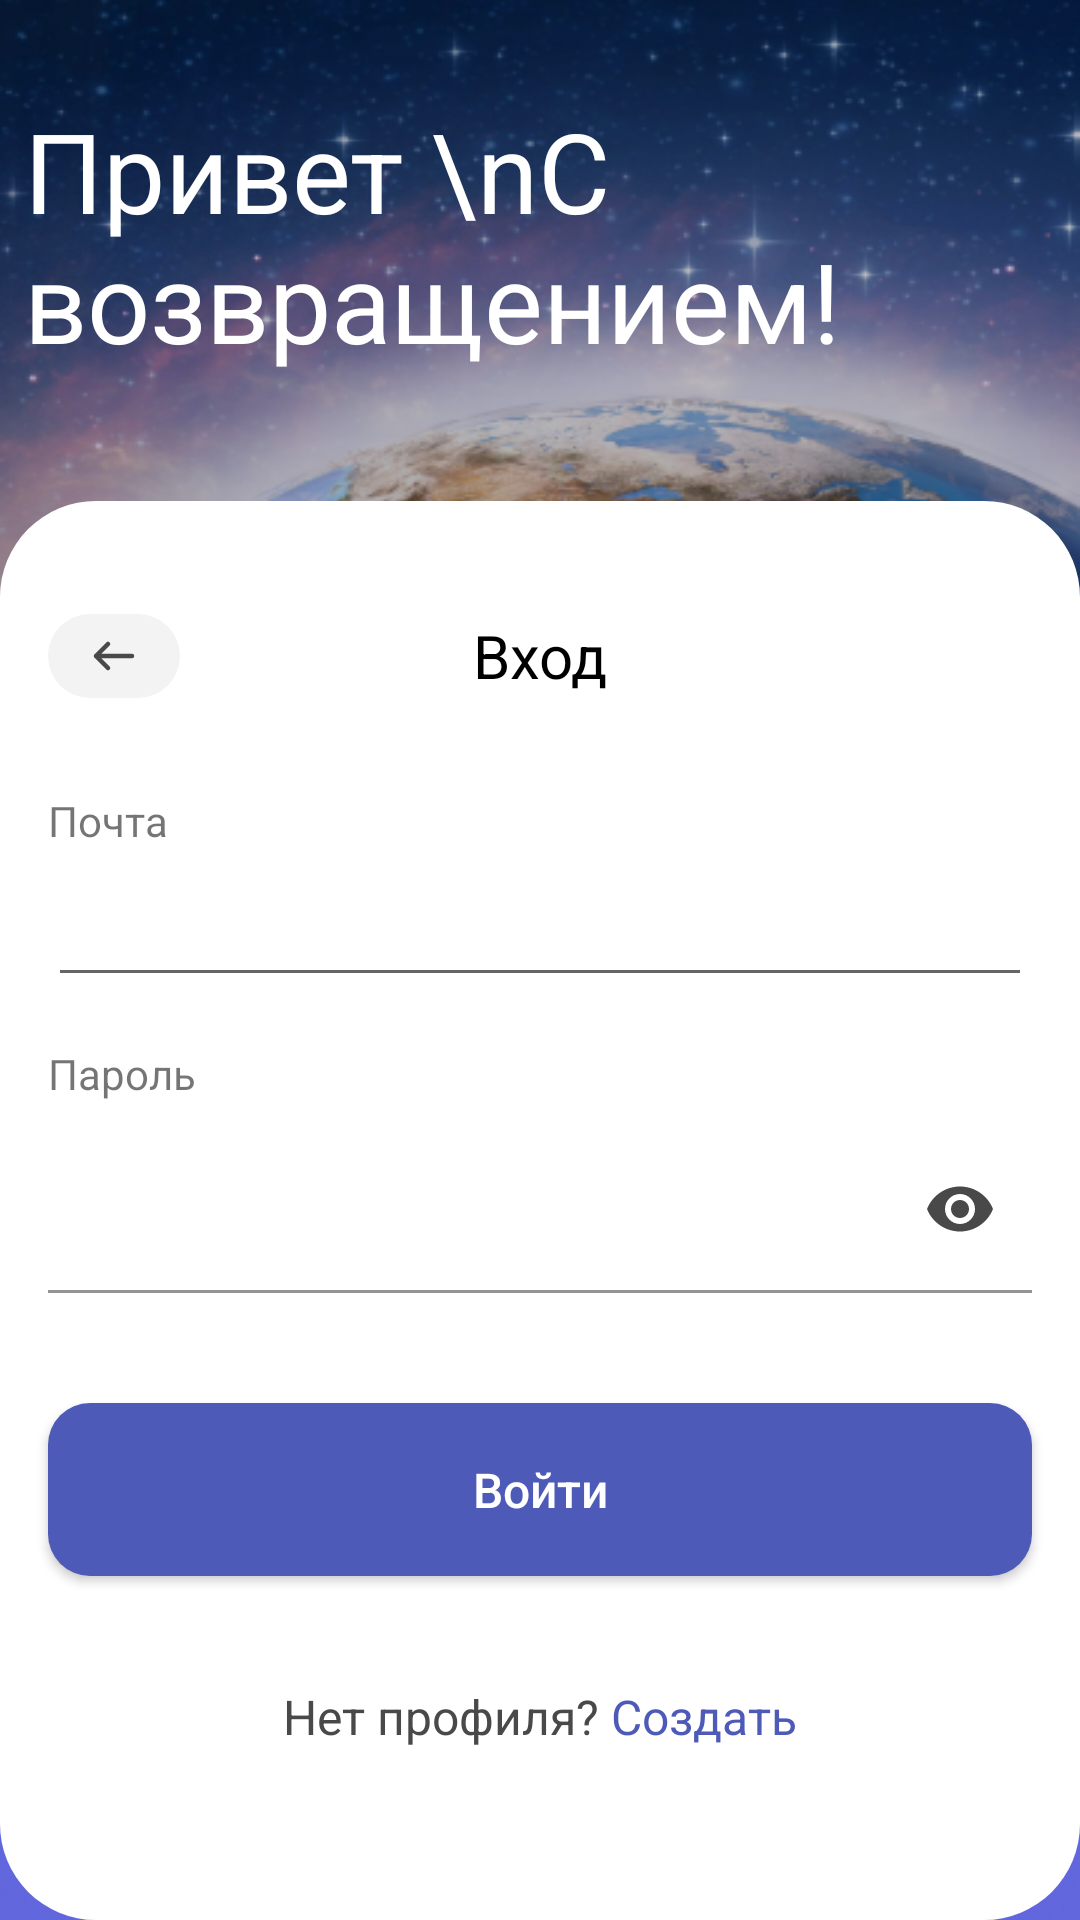

Locate icon controls on the screen. Image size 1080 x 1920, boxes as (x1, y1, x2, y2).
arrow left: (48, 614, 180, 698)
